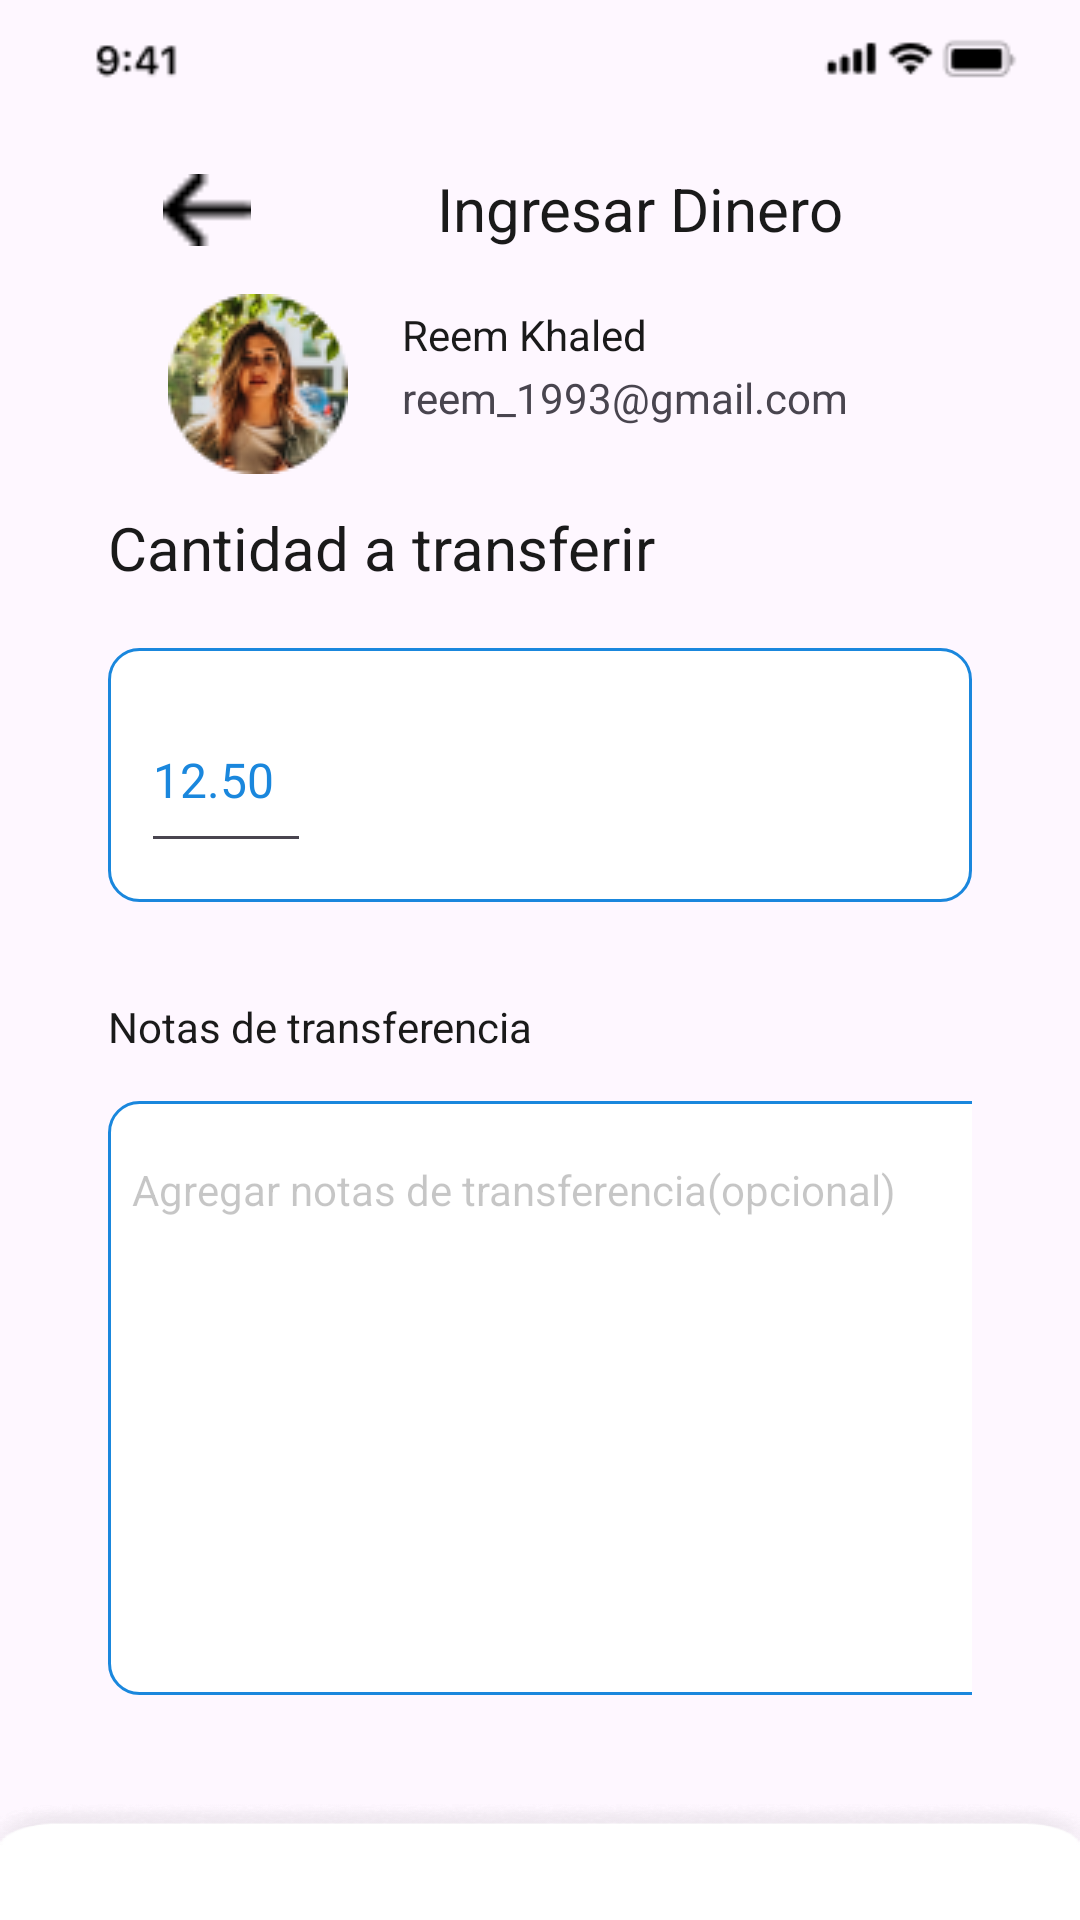

Screen size 1080*1920. Icon name, then its box in pixels as (x1, y1, x2, y2):
profile picture: (168, 294, 348, 474)
